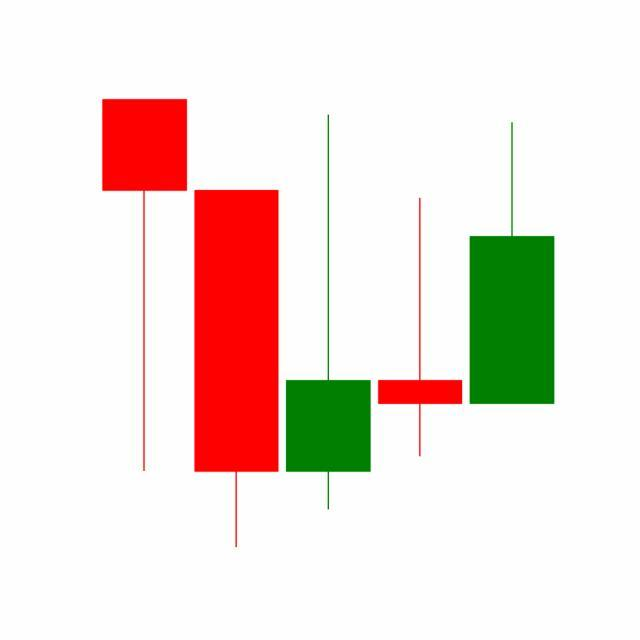Spinning Top: (374, 196, 468, 461)
